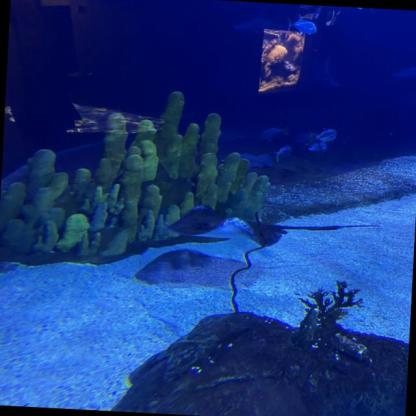fish: (284, 16, 321, 37), (312, 128, 341, 145), (262, 128, 289, 142), (272, 148, 294, 163)
stingray: (175, 204, 289, 249)
